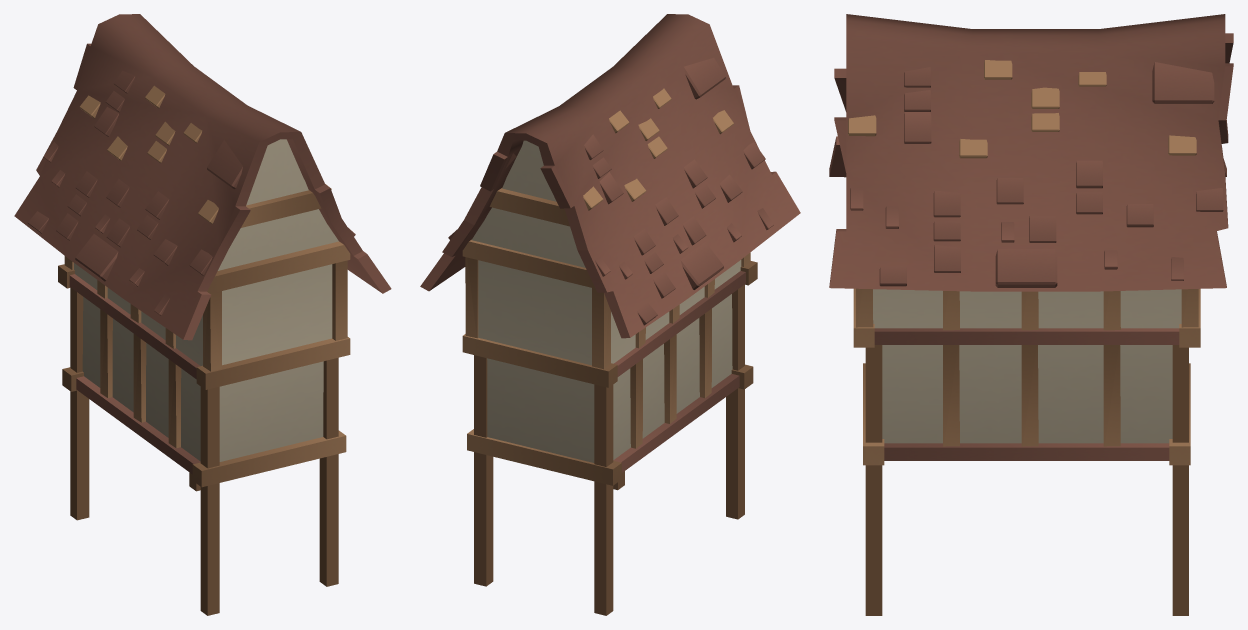
File: ZLP_Build_B_11.FBX
The picture shows the model from 3 angles, left to right: view 1: azimuth 30°, elevation 25°; view 2: azimuth 150°, elevation 25°; view 3: azimuth 270°, elevation 25°; orthographic projection. The views are drawn at different scales.
Parts seen in each view (by area): view 1: ZLP_Build_B_11; view 2: ZLP_Build_B_11; view 3: ZLP_Build_B_11.
Part boxes in pixels (box(x1,y1,x2,y2)): ZLP_Build_B_11: box(14, 14, 391, 615); ZLP_Build_B_11: box(420, 14, 800, 615); ZLP_Build_B_11: box(829, 14, 1233, 615).
Bounding box in the file's own units: 325 × 683 × 449.
